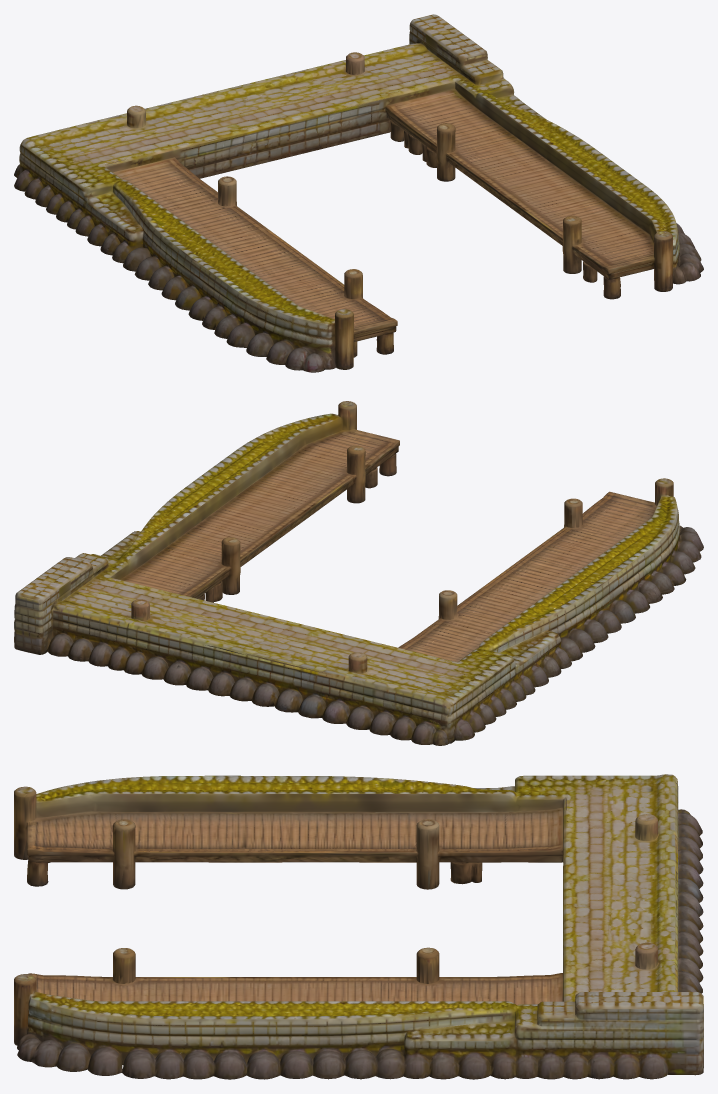
File: dock_harbour.glb
3 renders of one model, top to bottom at view 1: azimuth 30°, elevation 25°; view 2: azimuth 150°, elevation 25°; view 3: azimuth 270°, elevation 25°, orthographic. The views are drawn at different scales.
Visible parts, largest first — view 1: material; view 2: material; view 3: material.
Part boxes in pixels (left/top/right/bottom): material: left=14, top=14, right=703, bottom=372; material: left=14, top=401, right=703, bottom=745; material: left=14, top=774, right=703, bottom=1079.
Size of the model in its own units: 0.8377 by 0.0993 by 0.9104.
Materials: 1 (1 with a texture image).
